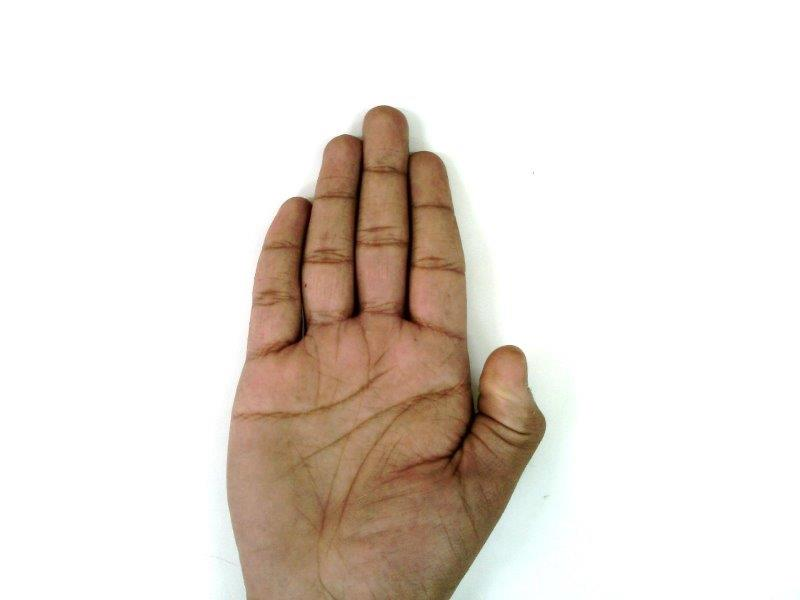hand: (225, 106, 546, 594)
